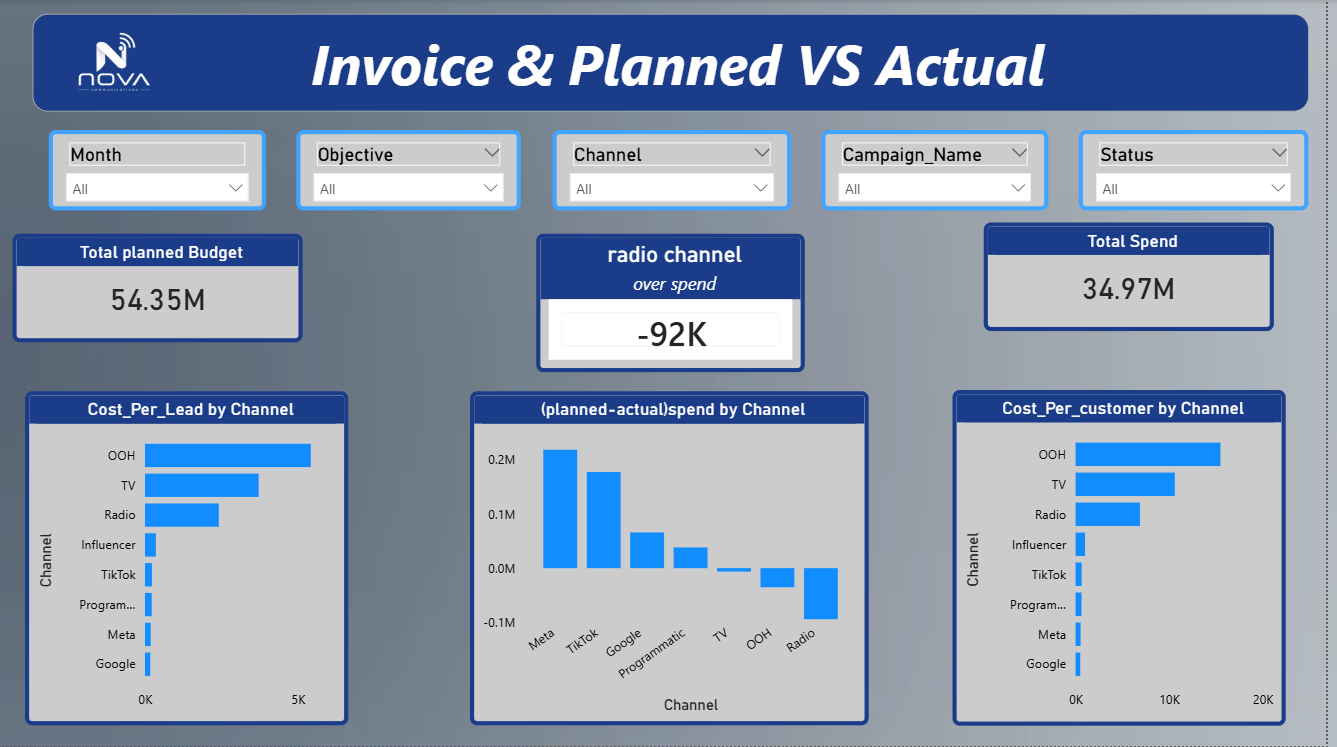

The dashboard page shown, as its layout file describes it:
{"tool":"powerbi","page":{"name":" Invoice & Planned VS Actual","canvas":[1280,720],"ordinal":4},"visuals":[{"type":"textbox","title":"Pudget Overview","box":[30.9,13.4,1231.9,94.1],"z":0},{"type":"image","box":[30.6,15.3,161.4,91.8],"z":2000},{"type":"cardVisual","title":"radio channel","fields":{"Data":["Brand_Awareness_Metrics.most over spent channel"]},"box":[517.6,225.6,259.4,133.9],"z":3000},{"type":"clusteredColumnChart","title":" (planned-actual)spend by Channel","fields":{"Y":["Sum(_Media_Plan_vs_Actual.(planned-actual)spend)"],"Category":["_Media_Plan_vs_Actual.Channel"]},"box":[454.1,377.3,384.6,322.8],"z":4000},{"type":"card","title":"Total Spend","fields":{"Values":["Annual_Media_Spend.nn"]},"box":[949.5,214.8,279.7,104.9],"z":5000},{"type":"card","title":"Total planned Budget","fields":{"Values":["Annual_Media_Spend.total planned budget"]},"box":[12.2,225.6,279.7,104.9],"z":6000},{"type":"clusteredBarChart","title":"Cost_Per_Lead by Channel","fields":{"Category":["_Annual_Media_Spend.Channel"],"Y":["Sum(_Annual_Media_Spend.Cost_Per_Lead_EGP)"]},"box":[23.8,377.3,312,322.8],"z":7000},{"type":"clusteredBarChart","title":"Cost_Per_customer by Channel","fields":{"Category":["_Annual_Media_Spend.Channel"],"Y":["Sum(_Annual_Media_Spend.Cost_Per_Customer_EGP)"]},"box":[919.4,375.9,321.4,324.1],"z":8000},{"type":"slicer","fields":{"Values":["__Daily_Channel_Performance.Month"]},"box":[47.1,125.5,209.9,77.2],"z":9000},{"type":"slicer","fields":{"Values":["__Daily_Channel_Performance.Channel"]},"box":[532.6,125.5,230.4,77.2],"z":10000},{"type":"slicer","fields":{"Values":["___Campaigns.Campaign_Name"]},"box":[792.3,125.5,219.6,77.2],"z":11000},{"type":"slicer","fields":{"Values":["___Campaigns.Status"]},"box":[1041.2,125.5,222,77.2],"z":12000},{"type":"slicer","fields":{"Values":["___Campaigns.Objective"]},"box":[285.9,125.5,217.2,77.2],"z":13000}]}

Visuals, with their boxes in screenshot pixels (x1, y1, x2, y2), scaled from the page's 1280x720 canvas onto the 1337x747 screenshot:
"Pudget Overview" textbox: 32,14,1319,112
image: 32,16,201,111
"radio channel" cardVisual: 541,234,812,373
" (planned-actual)spend by Channel" clusteredColumnChart: 474,391,876,726
"Total Spend" card: 992,223,1284,332
"Total planned Budget" card: 13,234,305,343
"Cost_Per_Lead by Channel" clusteredBarChart: 25,391,351,726
"Cost_Per_customer by Channel" clusteredBarChart: 960,390,1296,726
slicer - __Daily_Channel_Performance.Month: 49,130,268,210
slicer - __Daily_Channel_Performance.Channel: 556,130,797,210
slicer - ___Campaigns.Campaign_Name: 828,130,1057,210
slicer - ___Campaigns.Status: 1088,130,1319,210
slicer - ___Campaigns.Objective: 299,130,526,210
